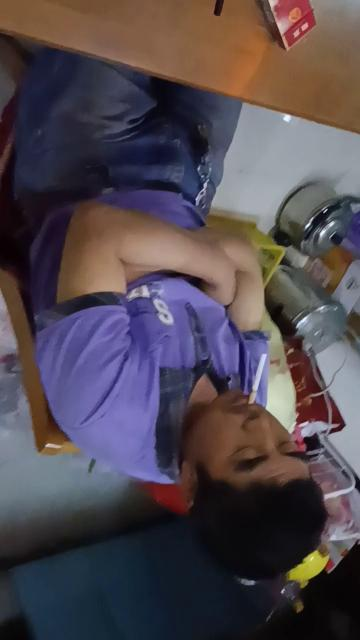Cigarette: (248, 354, 268, 404)
